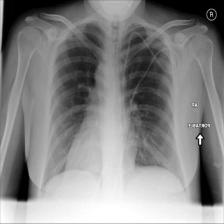normal: (42, 15, 188, 188)
